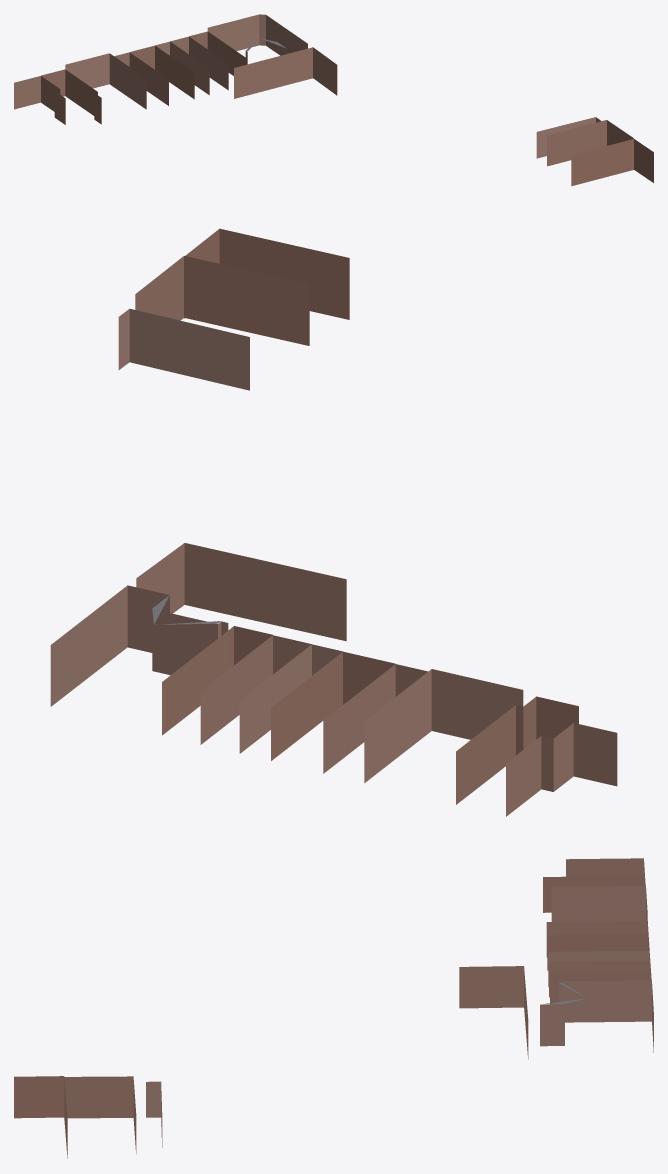
The model's file is c_1634_17827_buildings_residential.glb.
3 views of the same model, one above another, from view 1: azimuth 30°, elevation 25°; view 2: azimuth 150°, elevation 25°; view 3: azimuth 270°, elevation 25° (orthographic). The views are drawn at different scales.
Visible parts, largest first — view 1: geometry_0; view 2: geometry_0; view 3: geometry_0.
Boxes of the visible parts, bbox=[...] form: geometry_0: bbox=[14, 14, 653, 186]; geometry_0: bbox=[50, 228, 617, 816]; geometry_0: bbox=[14, 858, 653, 1158].
Bounding box in the file's own units: 150 × 11.68 × 154.
